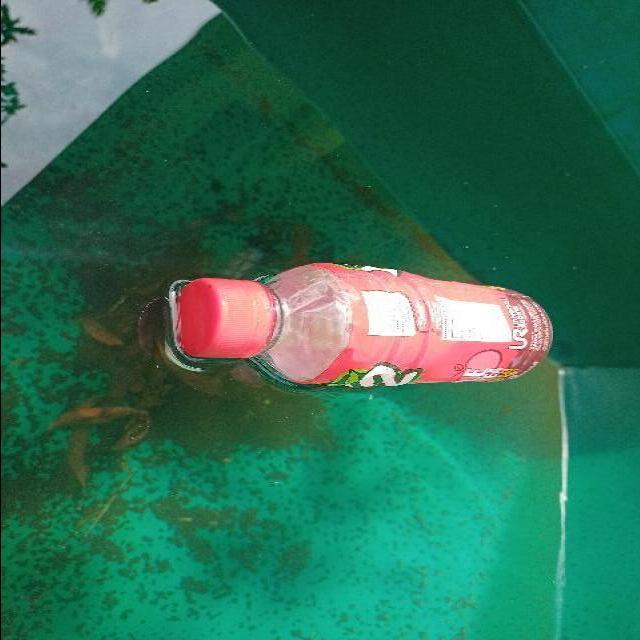Bottle: (159, 252, 561, 398)
